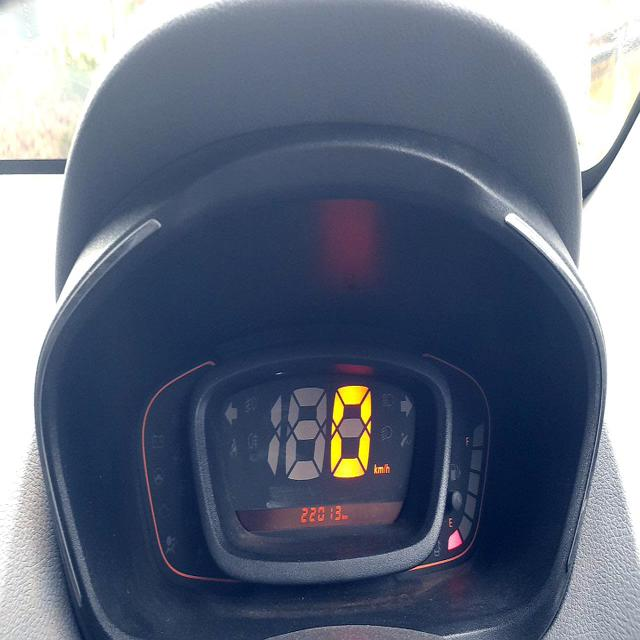odometer: (297, 504, 342, 525)
